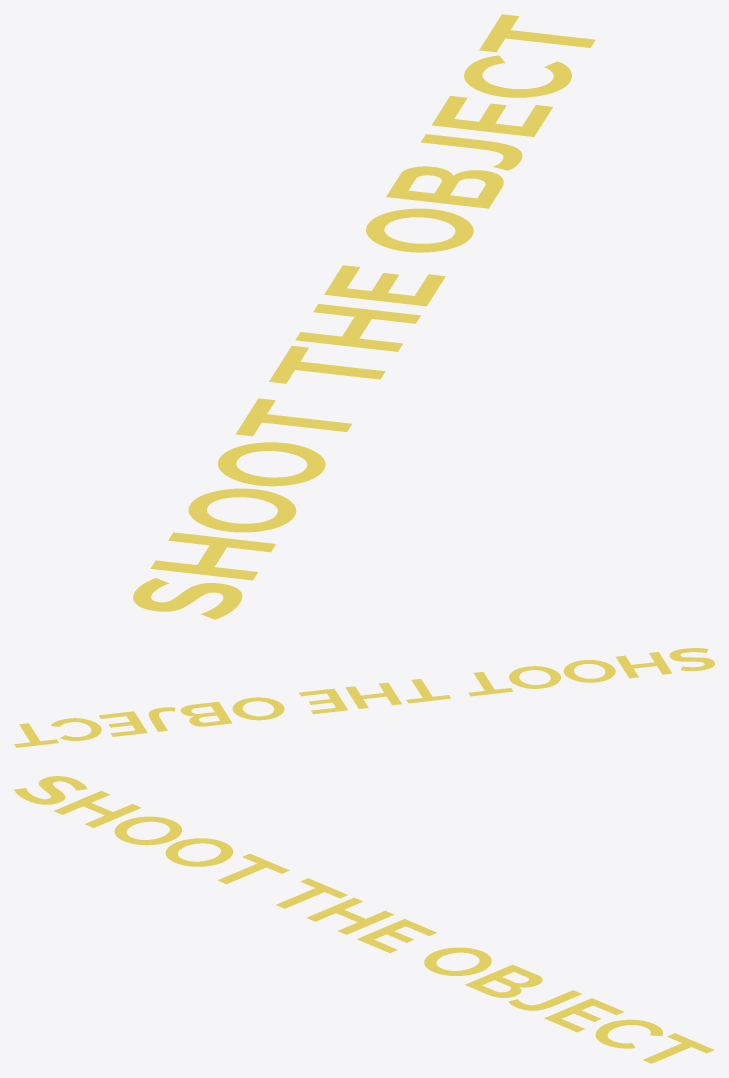
Rendered from SHOOT_THE_OBJECT.fbx.
3 renders of one model, top to bottom at view 1: azimuth 30°, elevation 25°; view 2: azimuth 150°, elevation 25°; view 3: azimuth 270°, elevation 25°, orthographic. The views are drawn at different scales.
Visible parts, largest first — view 1: Text.007; view 2: Text.007; view 3: Text.007.
Part boxes in pixels (<box>): Text.007: <box>133,14,595,619</box>; Text.007: <box>14,648,714,747</box>; Text.007: <box>14,776,714,1063</box>.
Bounding box in the file's own units: 6642 × 0.00011 × 6839.
